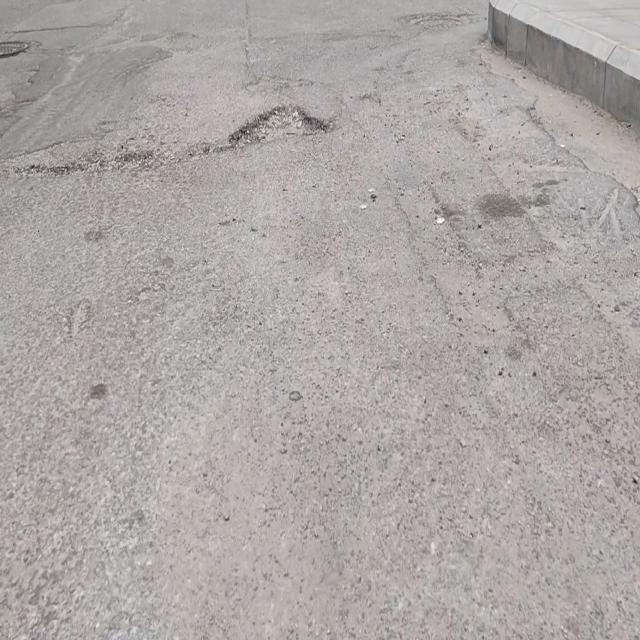Potholes: (232, 98, 329, 147)
